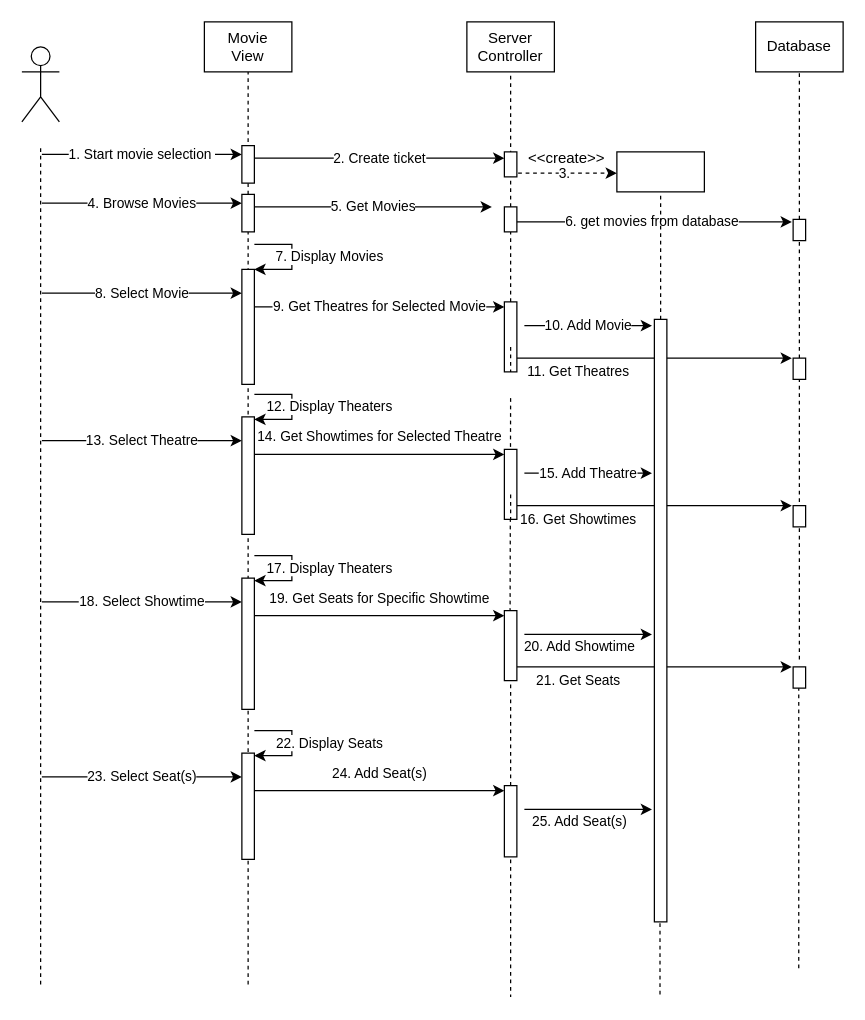
Image size: 865x1020. Some labels were removed from this diagram. Each missing label, with the box of its shape:
Ticket: (616, 151, 704, 192)
User: (21, 46, 59, 122)
